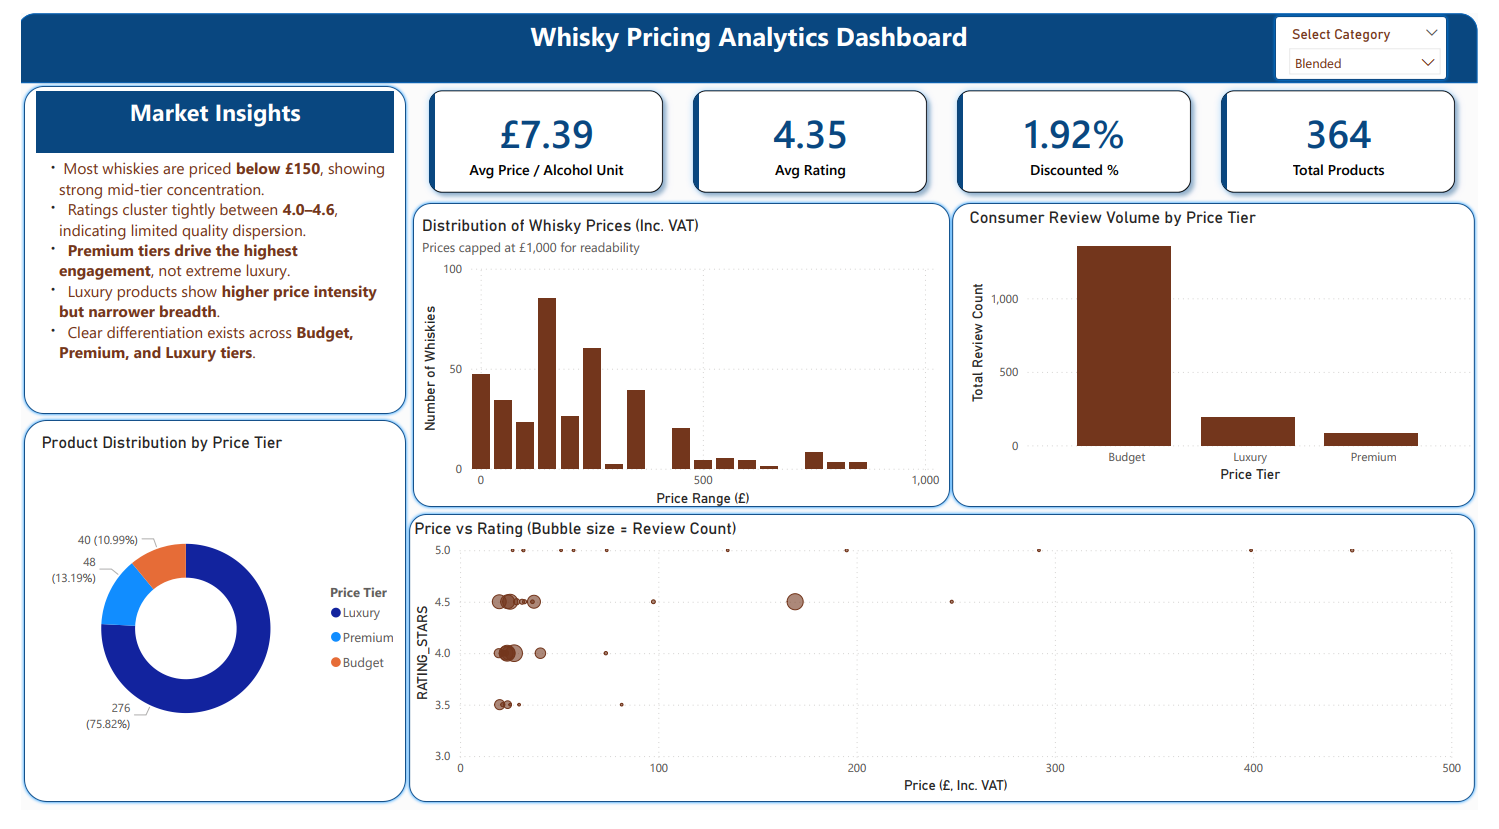

This screenshot's page, from the dashboard's own definition file:
{"tool":"powerbi","page":{"name":"Market Overview & Price Positioning","canvas":[1500,820],"ordinal":0},"visuals":[{"type":"cardVisual","fields":{"Data":["_Measures.Avg Price (VAT)","_Measures.Avg Price / Alcohol Unit","_Measures.Avg Rating","_Measures.Discounted %","_Measures.Total Products"]},"box":[396,48,1104,160],"z":0},{"type":"shape","box":[-4,0,1504,64],"z":1000},{"type":"textbox","box":[512,0,480,48],"z":2000},{"type":"shape","box":[400,192,560,320],"z":3000},{"type":"shape","box":[956,192,544,320],"z":4000},{"type":"clusteredColumnChart","title":"Distribution of Whisky Prices (Inc. VAT)","fields":{"Category":["VW_PRODUCT_LATEST.Price (GBP) Bins"],"Y":["CountNonNull(VW_PRODUCT_LATEST.PRODUCT_ID)"]},"box":[416,208,544,304],"z":5000},{"type":"clusteredBarChart","title":"Average Whisky Price by Region","fields":{"Category":["VW_PRODUCT_LATEST.REGION"],"Y":["Sum(VW_PRODUCT_LATEST.PRICE_INC_VAT_GBP)"]},"box":[972,208,528,304],"z":6000},{"type":"shape","box":[396,512,1104,304],"z":7000},{"type":"scatterChart","title":"Price vs Rating (Bubble size = Review Count)","fields":{"X":["VW_PRODUCT_LATEST.PRICE_INC_VAT_GBP"],"Y":["VW_PRODUCT_LATEST.RATING_STARS"],"Size":["Sum(VW_PRODUCT_LATEST.REVIEW_COUNT)"]},"box":[400,520,1088,288],"z":8000},{"type":"shape","box":[0,64,400,352],"z":9000},{"type":"shape","box":[0,416,400,400],"z":10000},{"type":"textbox","box":[16,72,368,64],"z":11000},{"type":"textbox","box":[16,144,368,240],"z":12000},{"type":"donutChart","title":"Product Distribution by Price Tier","fields":{"Category":["VW_PRODUCT_LATEST.PRICE_TIER"],"Y":["CountNonNull(VW_PRODUCT_LATEST.PRODUCT_ID)"]},"box":[16,432,384,384],"z":13000}]}

Visuals, with their boxes in screenshot pixels (x1, y1, x2, y2), scaled from the page's 1500x820 canvas onto the 1499x829 screenshot:
cardVisual - _Measures.Avg Price (VAT) x _Measures.Avg Price / Alcohol Unit: 396, 49, 1498, 210
shape: 0, 0, 1498, 65
textbox: 512, 0, 991, 49
shape: 400, 194, 959, 518
shape: 955, 194, 1498, 518
"Distribution of Whisky Prices (Inc. VAT)" clusteredColumnChart: 416, 210, 959, 518
"Average Whisky Price by Region" clusteredBarChart: 971, 210, 1498, 518
shape: 396, 518, 1498, 825
"Price vs Rating (Bubble size = Review Count)" scatterChart: 400, 526, 1487, 817
shape: 0, 65, 400, 421
shape: 0, 421, 400, 825
textbox: 16, 73, 384, 137
textbox: 16, 146, 384, 388
"Product Distribution by Price Tier" donutChart: 16, 437, 400, 825
